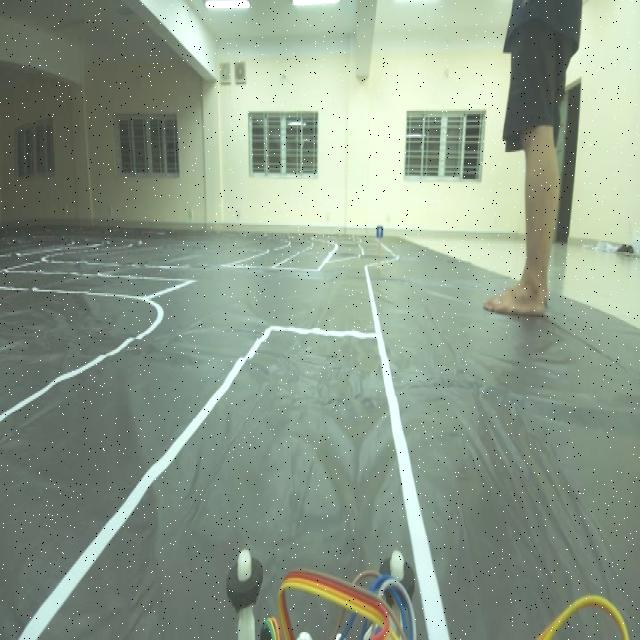onewayroad: (374, 223, 388, 246)
